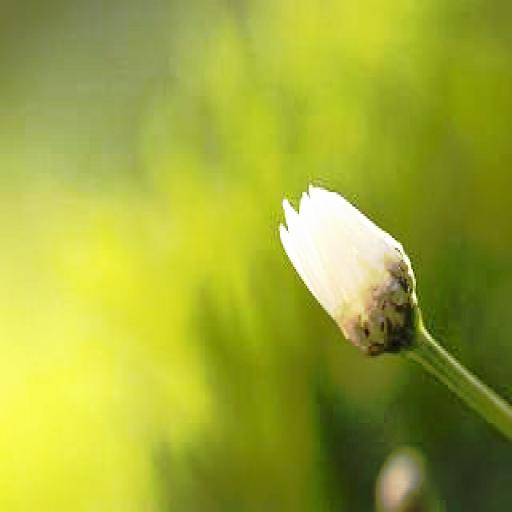daisy: (272, 180, 427, 361)
